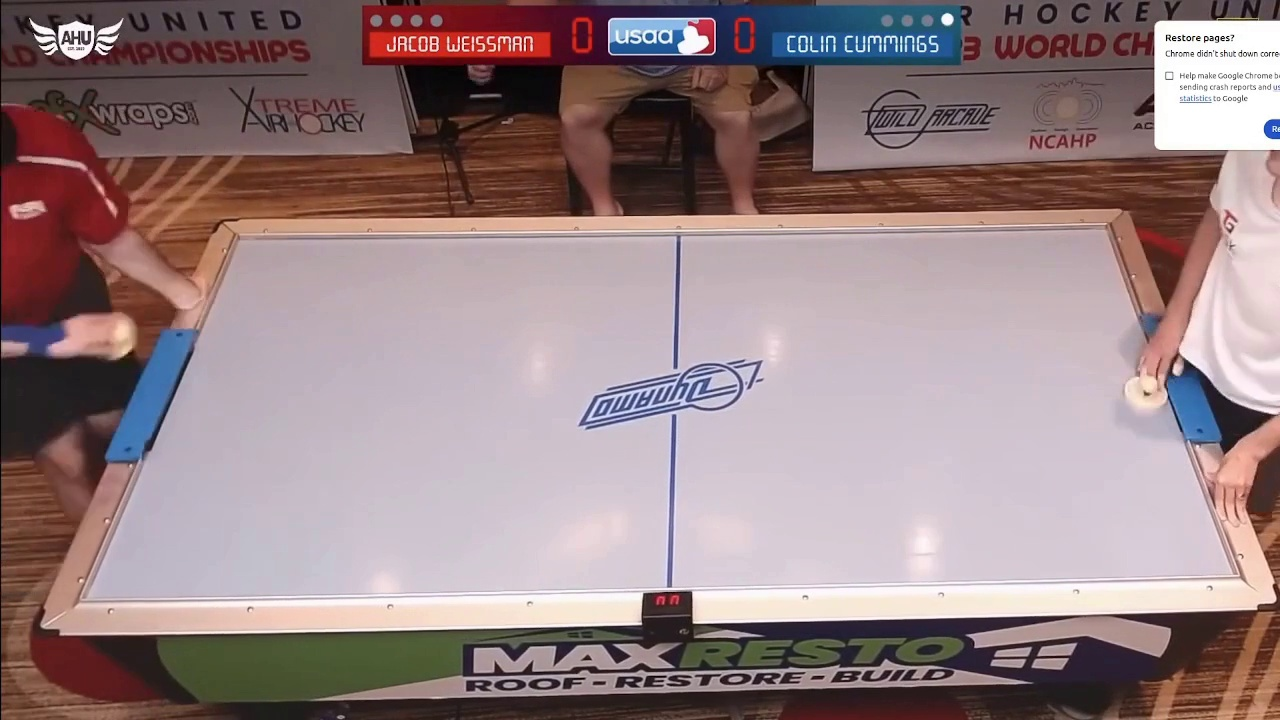player: (1125, 374, 1170, 411)
table: (93, 202, 1274, 621)
